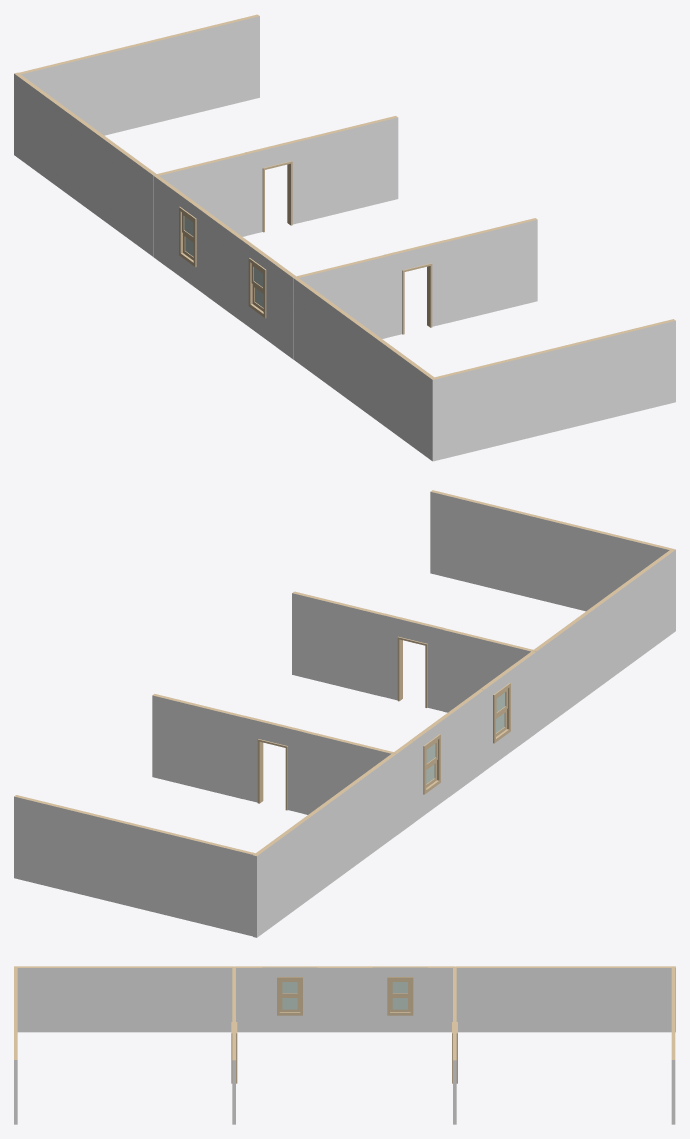
Rendered from Stagewall3.gltf.
3 renders of one model, top to bottom at view 1: azimuth 30°, elevation 25°; view 2: azimuth 150°, elevation 25°; view 3: azimuth 270°, elevation 25°, orthographic. The views are drawn at different scales.
Visible parts, largest first — view 1: 壁.002, 壁2.005, ドア壁.002, ドア壁2.003, 壁2.004, 窓壁2.003, 壁2.003; view 2: 壁2.005, 壁.002, ドア壁.002, ドア壁2.003, 壁2.003, 窓壁2.003, 壁2.004; view 3: 窓壁2.003, 壁2.003, 壁2.004, ドア壁2.003, 壁2.005, ドア壁.002, 壁.002.
Boxes of the visible parts, bbox=[...] form: 壁.002: bbox=[433, 319, 675, 460]; 壁2.005: bbox=[16, 14, 259, 135]; ドア壁.002: bbox=[157, 116, 398, 236]; ドア壁2.003: bbox=[297, 218, 537, 338]; 壁2.004: bbox=[293, 277, 435, 461]; 窓壁2.003: bbox=[153, 175, 296, 358]; 壁2.003: bbox=[14, 72, 156, 256]; 壁2.005: bbox=[14, 795, 257, 936]; 壁.002: bbox=[430, 490, 673, 611]; ドア壁.002: bbox=[152, 694, 393, 814]; ドア壁2.003: bbox=[292, 591, 533, 712]; 壁2.003: bbox=[253, 753, 396, 937]; 窓壁2.003: bbox=[393, 651, 536, 835]; 壁2.004: bbox=[532, 548, 675, 732]; 窓壁2.003: bbox=[235, 966, 455, 1032]; 壁2.003: bbox=[455, 966, 675, 1032]; 壁2.004: bbox=[14, 966, 234, 1032]; ドア壁2.003: bbox=[231, 967, 237, 1124]; 壁2.005: bbox=[671, 967, 675, 1124]; ドア壁.002: bbox=[452, 967, 457, 1124]; 壁.002: bbox=[14, 967, 17, 1124].
Bounding box in the file's own units: 2.53 × 0.8076 × 7.5.
